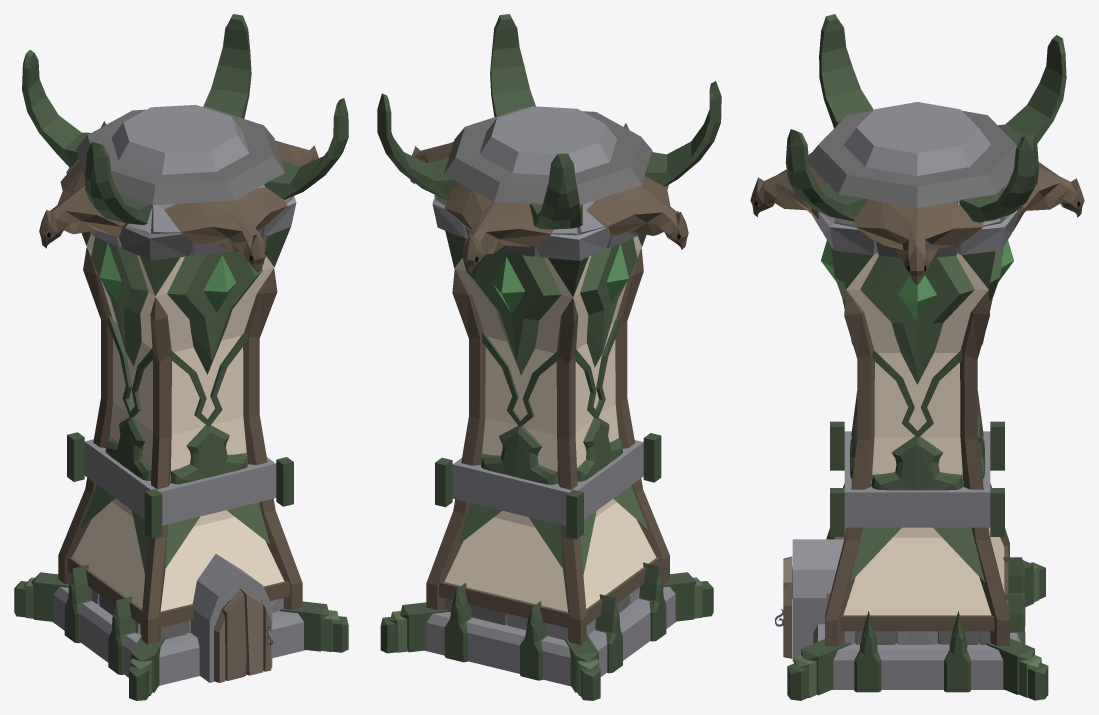
File: towerbasecorrect.fbx
3 renders of one model, left to right at view 1: azimuth 30°, elevation 25°; view 2: azimuth 150°, elevation 25°; view 3: azimuth 270°, elevation 25°, orthographic. The views are drawn at different scales.
Parts seen in each view (by area): view 1: Poison_tower_LVL_4; view 2: Poison_tower_LVL_4; view 3: Poison_tower_LVL_4.
Part boxes in pixels (x1=…): Poison_tower_LVL_4: x1=14, y1=14, x2=348, y2=700; Poison_tower_LVL_4: x1=377, y1=14, x2=721, y2=700; Poison_tower_LVL_4: x1=750, y1=14, x2=1084, y2=700.
Size of the model in its own units: 684 by 1284 by 684.
